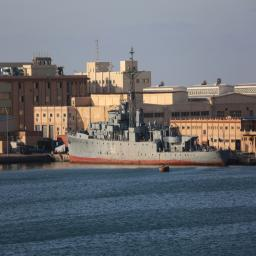Fragata: (66, 50, 233, 169)
